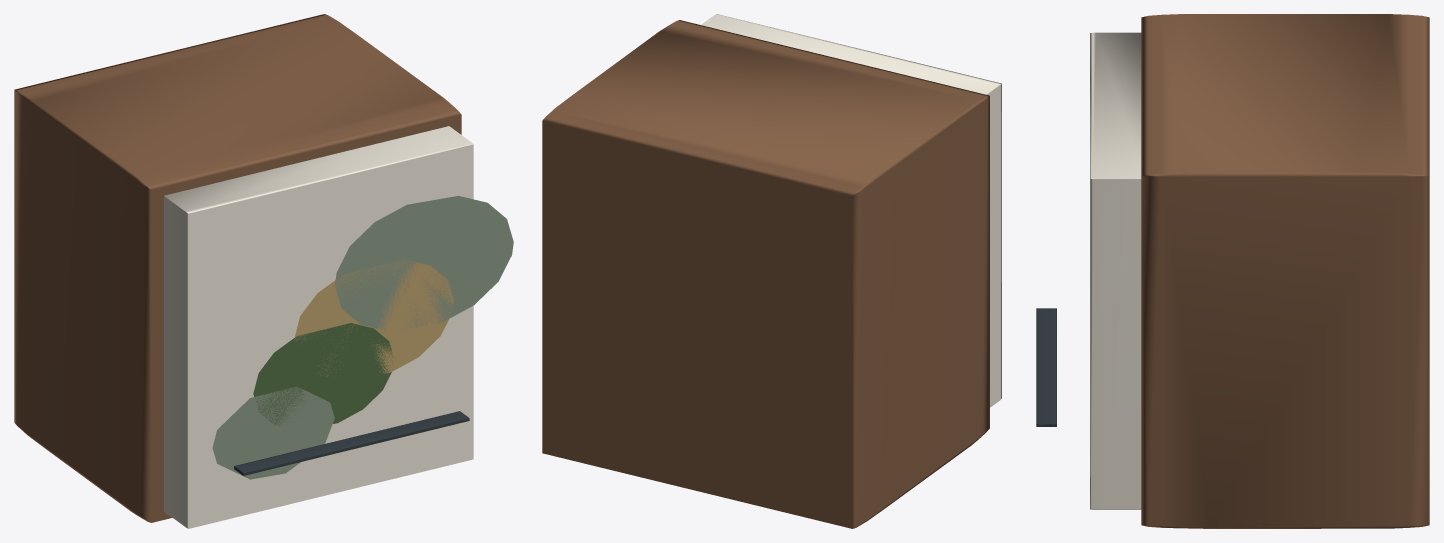
Rendered from studio-art-landscape.lod.glb.
3 renders of one model, left to right at view 1: azimuth 30°, elevation 25°; view 2: azimuth 150°, elevation 25°; view 3: azimuth 270°, elevation 25°, orthographic. The views are drawn at different scales.
Visible parts, largest first — view 1: upholstery (×3), part (×3); view 2: upholstery (×2); view 3: upholstery (×3).
Boxes of the visible parts, box(x1,y1,x2,y2) form: upholstery (×3): box(14, 14, 473, 528); part (×3): box(212, 196, 513, 479); upholstery (×2): box(542, 14, 1001, 528); upholstery (×3): box(1036, 14, 1429, 528).
Bounding box in the file's own units: 1 × 1 × 1.
